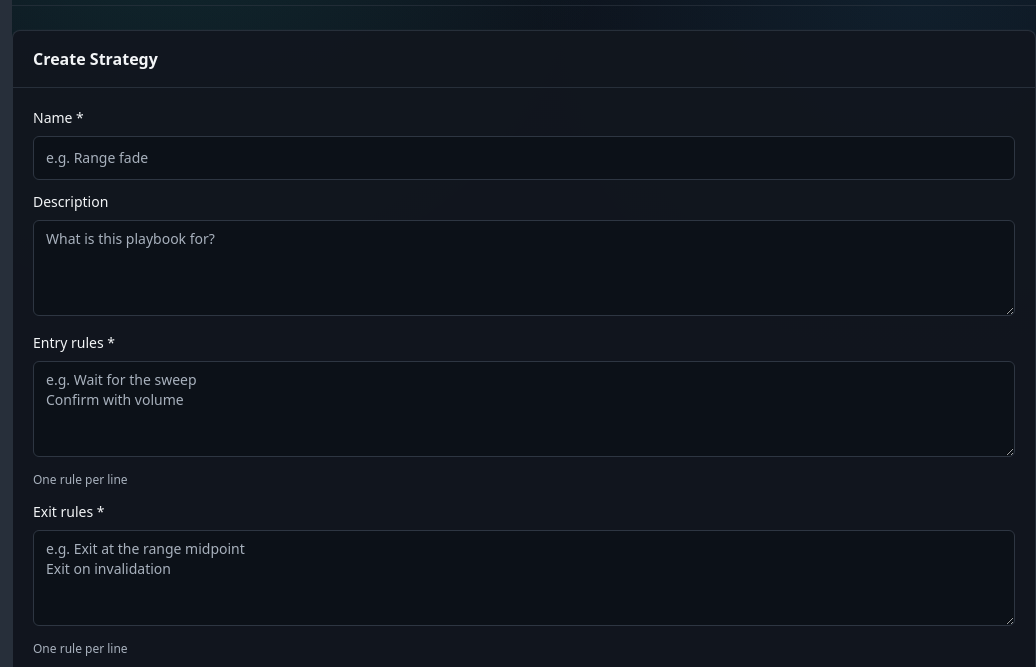
the create form has three optional limit fields › names a rejected limit by this screen's own label (en)
Step 1. Type "Range fade" into the field labelled "Name *" → (524, 158), box [33,136,1015,180]
Step 2. Type "Wait for the sweep" into the text box labelled "Entry rules * One rule per line" → (524, 409), box [33,361,1015,457]
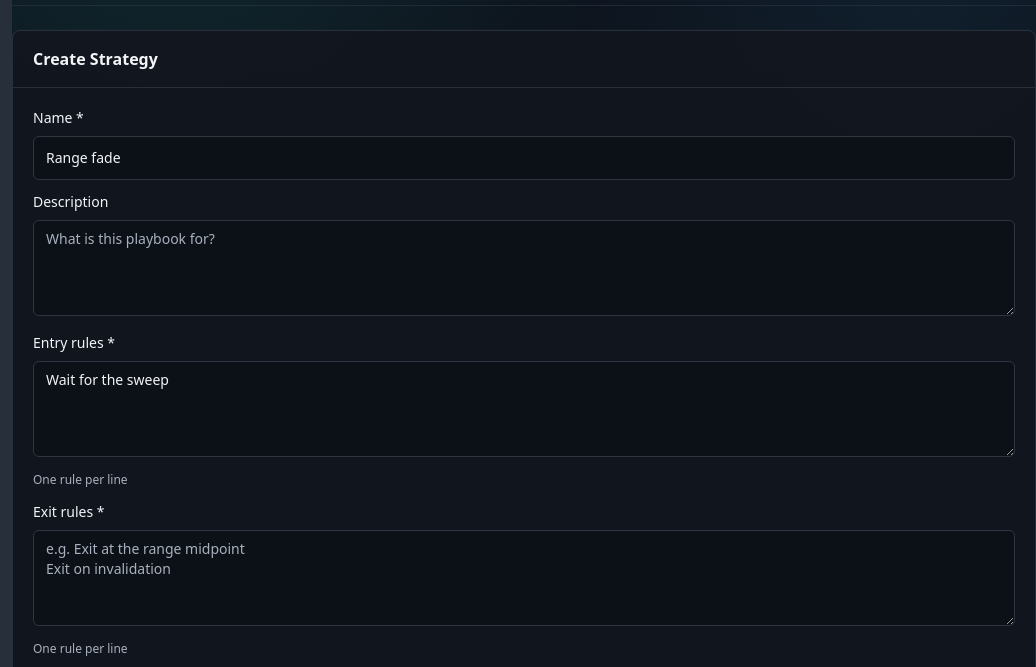
Step 3. Type "Exit at the midpoint" into the text box labelled "Exit rules * One rule per line" → (524, 578), box [33,530,1015,626]
(page scrolled)
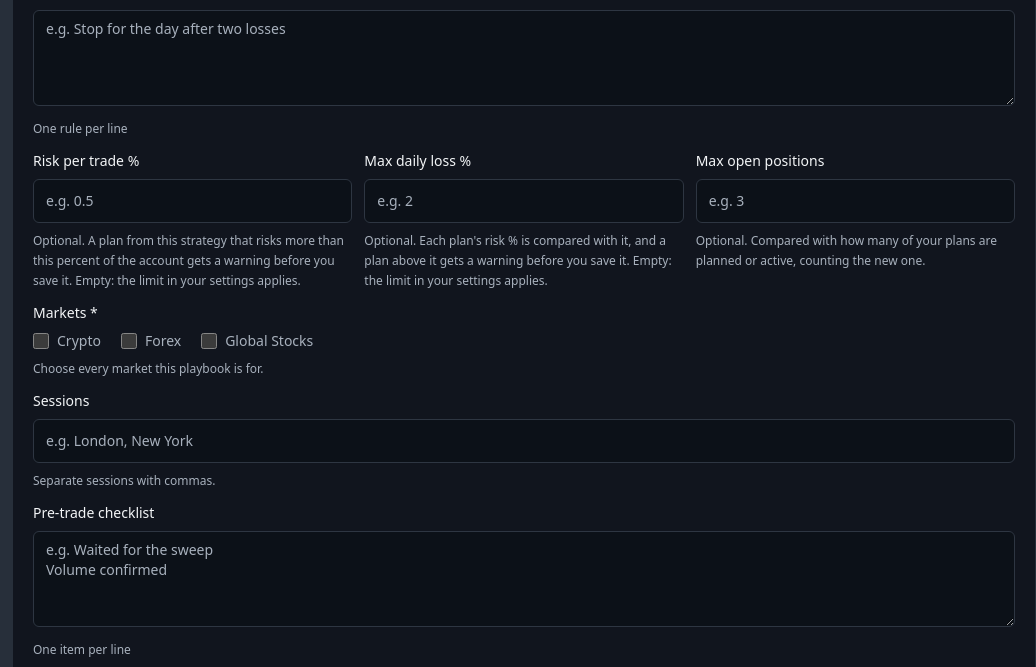
Step 4. Click the checkbox labelled "Forex" → (129, 341), box [121,333,137,349]
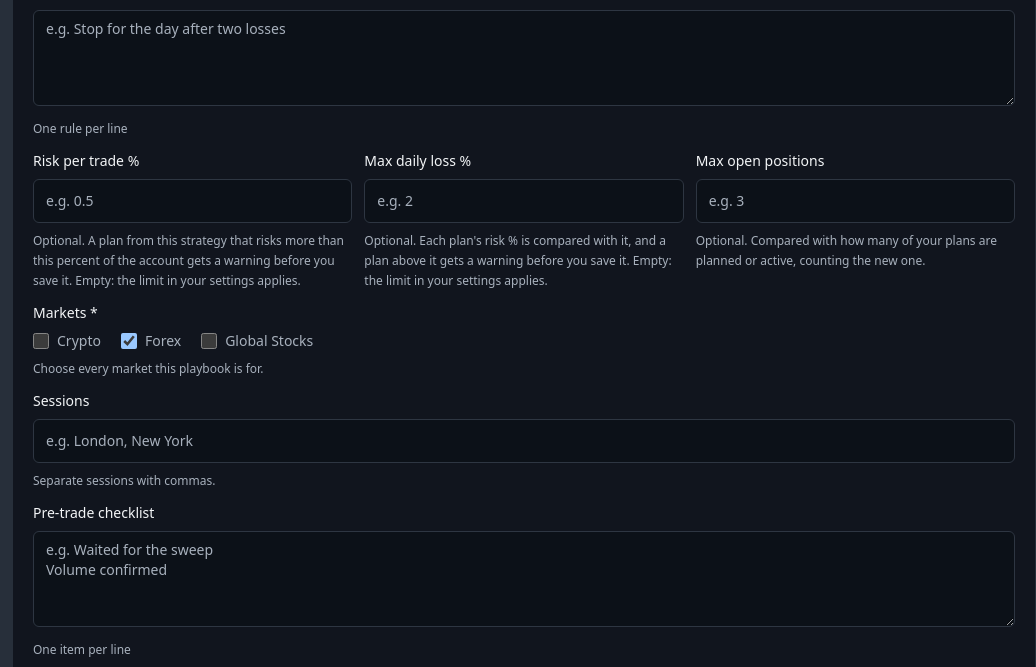
Step 5. Type "500" into the 1st field → (193, 201), box [33,179,352,223]
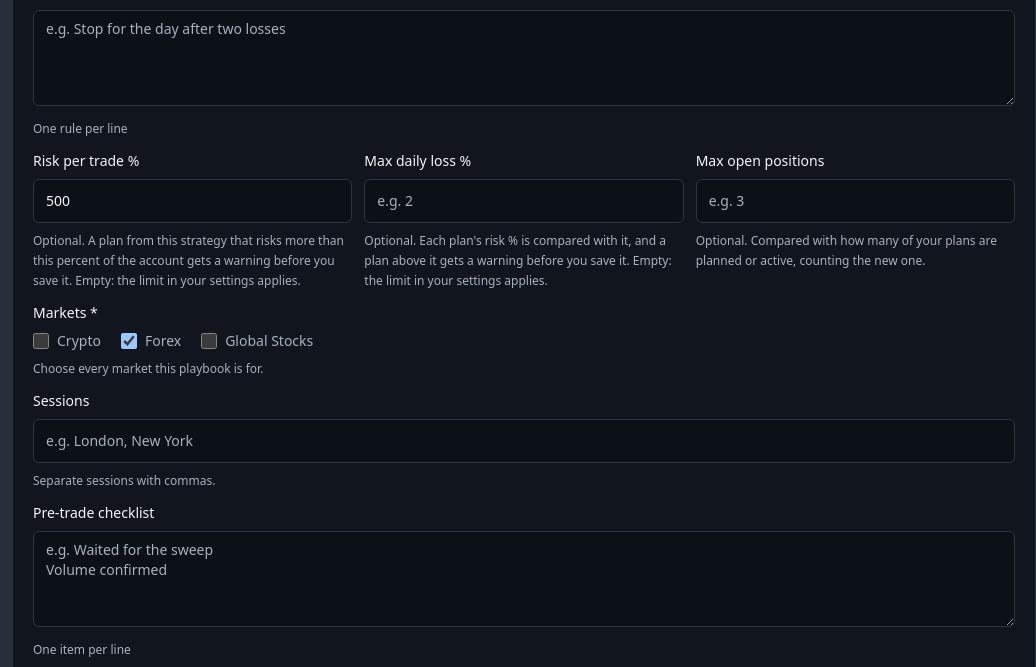
Step 6. Type "0" into the 3rd field → (855, 201), box [696,179,1015,223]
(page scrolled)
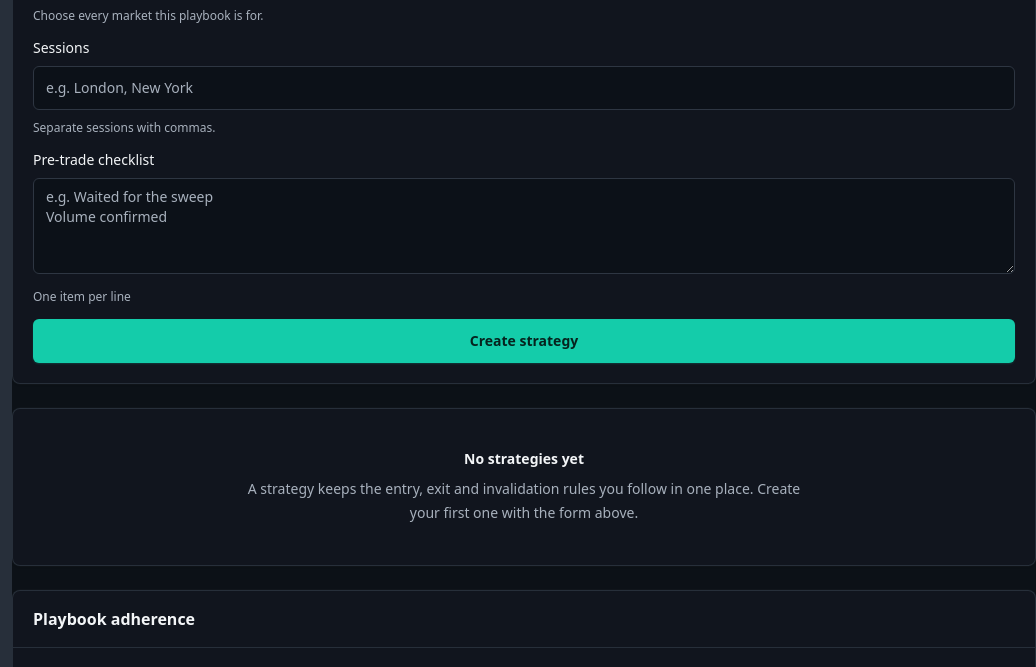
Step 7. Click the button "Create strategy" → (524, 341), box [33,319,1015,363]
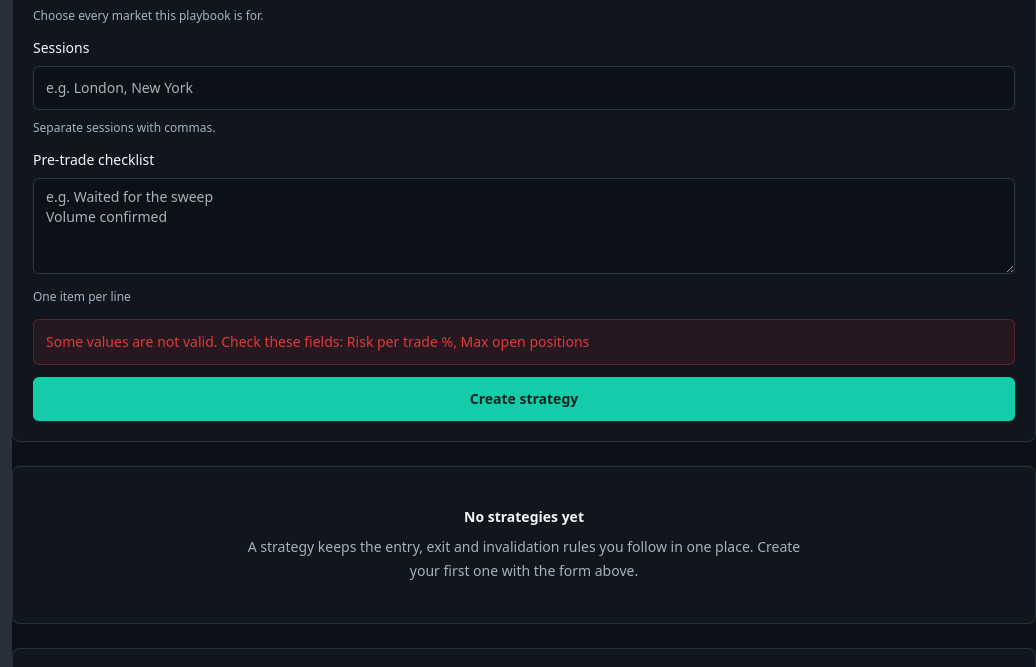
Check: the message shows "Risk per trade %", box [46,332,589,351]
Check: the message shows "Max open positions", box [46,332,589,351]
